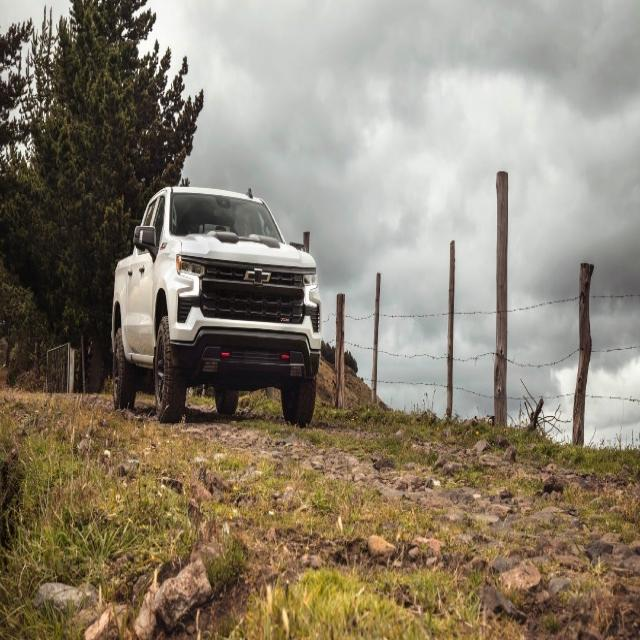CMT: (110, 183, 322, 427)
